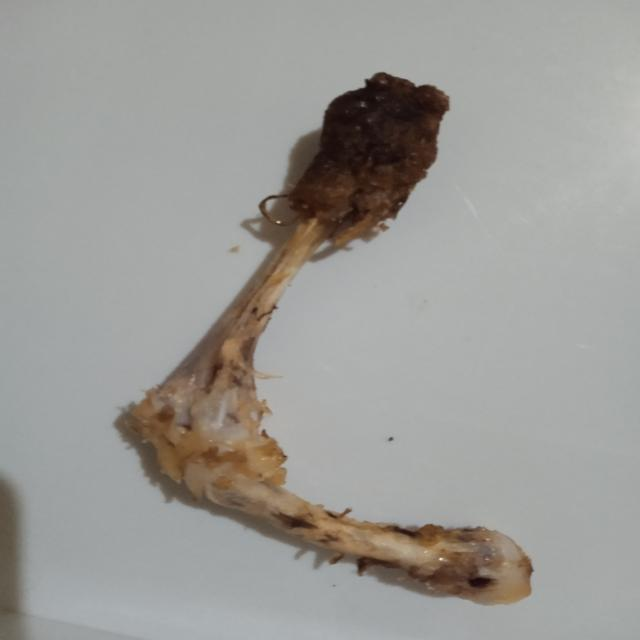bone: (105, 62, 539, 620)
